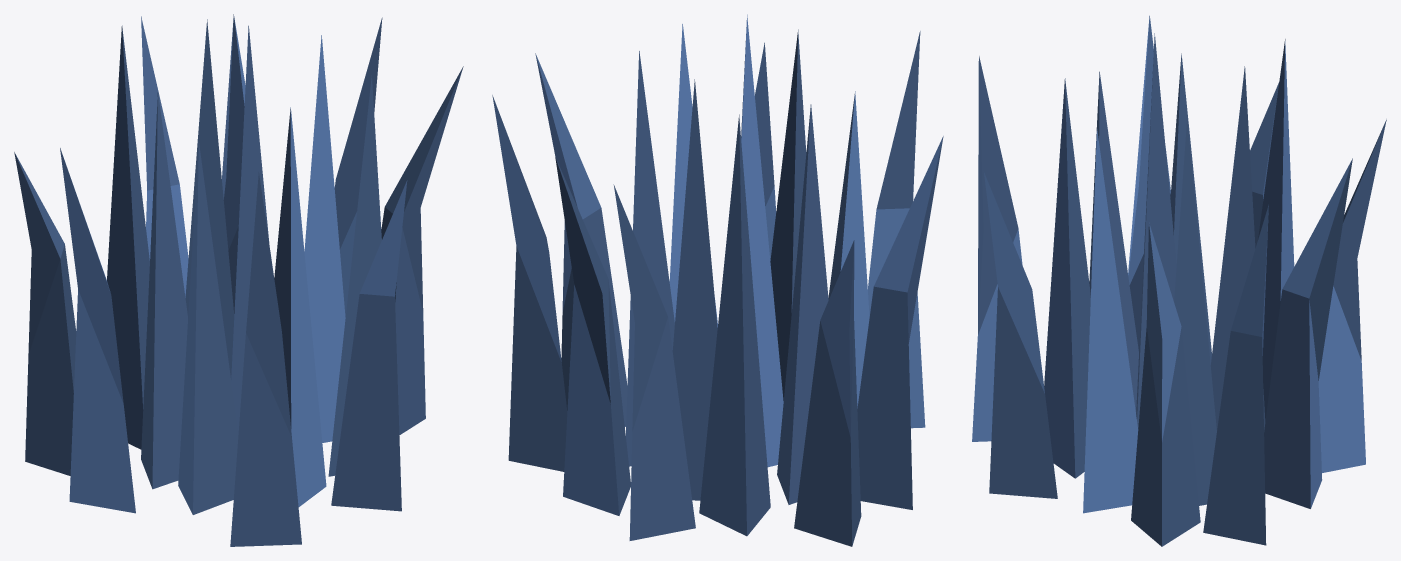
File: Grass_4_Blue.fbx
The picture shows the model from 3 angles, left to right: view 1: azimuth 30°, elevation 25°; view 2: azimuth 150°, elevation 25°; view 3: azimuth 270°, elevation 25°; orthographic projection. The views are drawn at different scales.
Parts seen in each view (by area): view 1: Grass_4_Blue_Part_1, Grass_4_Blue_Part_2; view 2: Grass_4_Blue_Part_1, Grass_4_Blue_Part_2; view 3: Grass_4_Blue_Part_1, Grass_4_Blue_Part_2.
Part boxes in pixels (x1=…): Grass_4_Blue_Part_1: x1=14, y1=14, x2=463, y2=546; Grass_4_Blue_Part_2: x1=60, y1=16, x2=407, y2=514; Grass_4_Blue_Part_1: x1=495, y1=27, x2=920, y2=546; Grass_4_Blue_Part_2: x1=492, y1=14, x2=943, y2=536; Grass_4_Blue_Part_1: x1=978, y1=33, x2=1386, y2=546; Grass_4_Blue_Part_2: x1=972, y1=15, x2=1365, y2=513.
Bounding box in the file's own units: 44.82 × 46.94 × 41.13.
